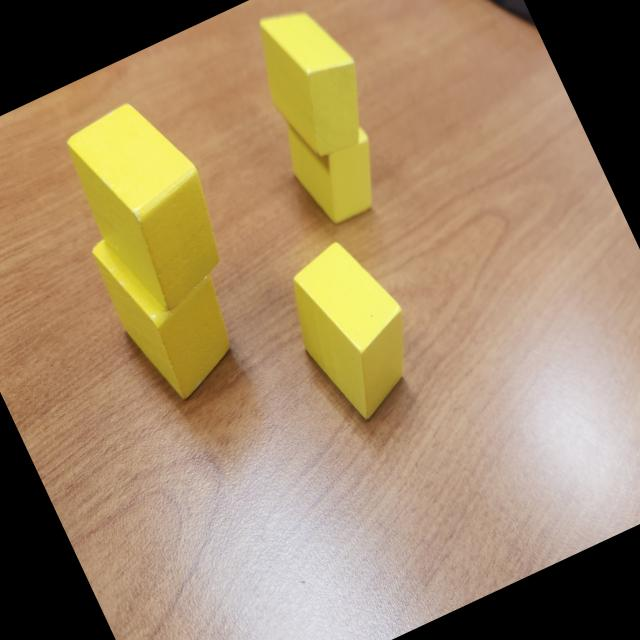yellow: (55, 87, 247, 322), (83, 196, 256, 411), (270, 230, 437, 430), (238, 0, 387, 169), (272, 94, 398, 233)
